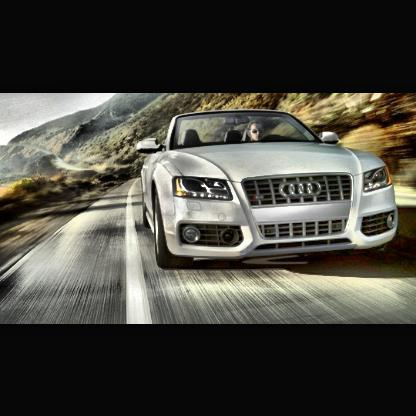Audi S5 Convertible 2012: (140, 110, 401, 269)
